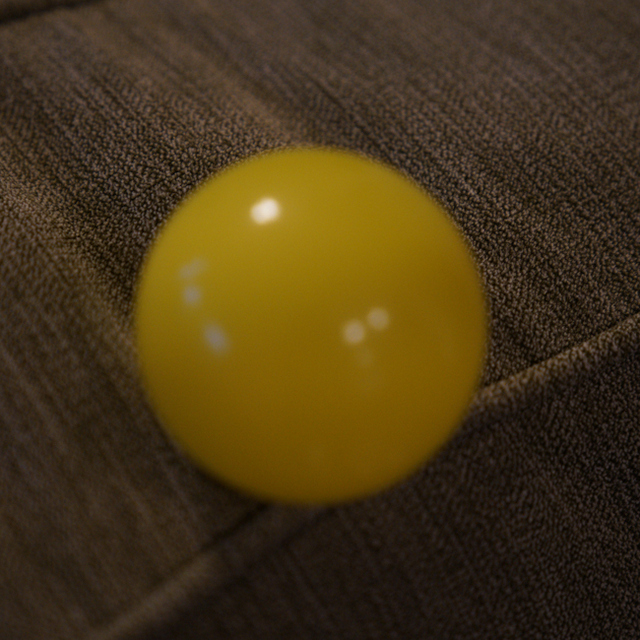Ball: (146, 150, 492, 499)
